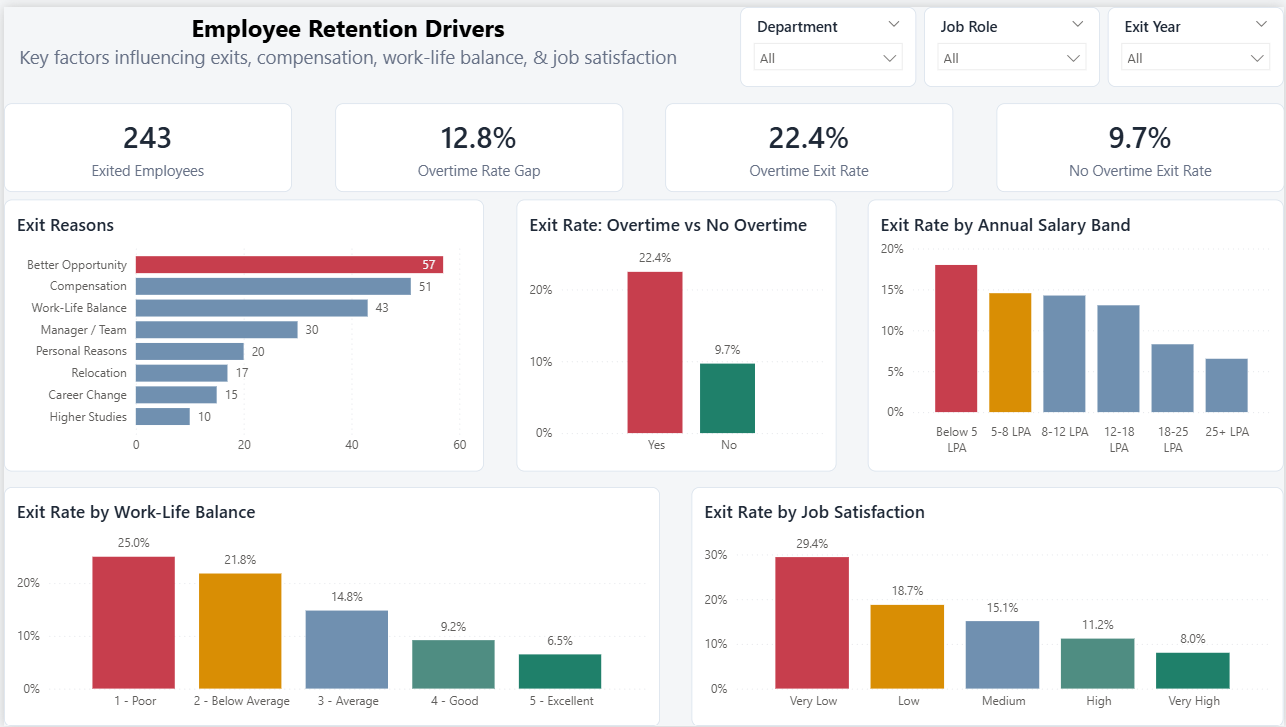

The dashboard page shown, as its layout file describes it:
{"tool":"powerbi","page":{"name":"Employee Retention Drivers","canvas":[1280,720],"ordinal":1},"visuals":[{"type":"card","fields":{"Values":["_Measures.Exited Employees"]},"box":[0,96,288,89],"z":0},{"type":"card","fields":{"Values":["_Measures.Overtime Exit Rate"]},"box":[330.7,96,288,89],"z":1000},{"type":"card","fields":{"Values":["_Measures.No Overtime Exit Rate"]},"box":[992,96,288,89],"z":2000},{"type":"barChart","title":"Exit Reasons","fields":{"Category":["Workforce.ExitReason"],"Y":["_Measures.Exited Employees"]},"box":[0,192,480,272],"z":3000},{"type":"clusteredColumnChart","title":"Exit Rate: Overtime vs No Overtime","fields":{"Category":["Workforce.OverTime"],"Y":["_Measures.Historical Exit Rate"]},"box":[512,192,320,272],"z":4000},{"type":"columnChart","title":"Exit Rate by Work-Life Balance","fields":{"Y":["_Measures.Historical Exit Rate"],"Category":["Workforce.Work-Life Balance Label"]},"box":[0,480,656,240],"z":5000},{"type":"columnChart","title":"Exit Rate by Job Satisfaction","fields":{"Y":["_Measures.Historical Exit Rate"],"Category":["Workforce.Job Satisfaction Label"]},"box":[688,480,592,240],"z":6000},{"type":"columnChart","title":"Exit Rate by Annual Salary Band","fields":{"Y":["_Measures.Historical Exit Rate"],"Category":["Workforce.SalarySlab"]},"box":[864,192,416,272],"z":7000},{"type":"card","fields":{"Values":["_Measures.Overtime Rate Gap"]},"box":[661.3,96,288,89],"z":8000},{"type":"textbox","box":[0,0,688,80],"z":9000},{"type":"slicer","fields":{"Values":["Workforce.Department"]},"box":[736,0,176,80],"z":10000},{"type":"slicer","fields":{"Values":["Workforce.JobRole"]},"box":[920,0,176,80],"z":11000},{"type":"slicer","fields":{"Values":["Workforce.Exit Year"]},"box":[1104,0,176,80],"z":12000}]}

Visuals, with their boxes in screenshot pixels (x1, y1, x2, y2), scaled from the page's 1280x720 canvas onto the 1286x727 screenshot:
card - _Measures.Exited Employees: [0, 97, 289, 187]
card - _Measures.Overtime Exit Rate: [332, 97, 622, 187]
card - _Measures.No Overtime Exit Rate: [997, 97, 1285, 187]
"Exit Reasons" barChart: [0, 194, 482, 469]
"Exit Rate: Overtime vs No Overtime" clusteredColumnChart: [514, 194, 836, 469]
"Exit Rate by Work-Life Balance" columnChart: [0, 485, 659, 726]
"Exit Rate by Job Satisfaction" columnChart: [691, 485, 1285, 726]
"Exit Rate by Annual Salary Band" columnChart: [868, 194, 1285, 469]
card - _Measures.Overtime Rate Gap: [664, 97, 954, 187]
textbox: [0, 0, 691, 81]
slicer - Workforce.Department: [739, 0, 916, 81]
slicer - Workforce.JobRole: [924, 0, 1101, 81]
slicer - Workforce.Exit Year: [1109, 0, 1285, 81]
